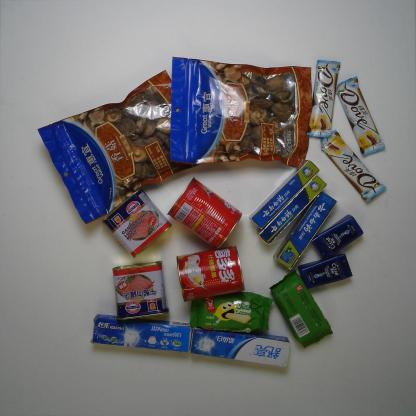Canned Food: (166, 177, 243, 249), (101, 188, 174, 260), (176, 245, 244, 302), (110, 261, 170, 321)
Chocolate: (320, 129, 387, 203), (336, 75, 386, 157), (306, 59, 342, 139)
Dessert: (268, 269, 335, 349), (189, 292, 273, 335)
Dried Food: (37, 68, 203, 224), (169, 56, 313, 169)
Personal Hygiene: (273, 191, 338, 270), (249, 159, 320, 230), (257, 174, 327, 245), (190, 323, 290, 369), (90, 314, 192, 352), (311, 214, 364, 261), (298, 254, 353, 289)
